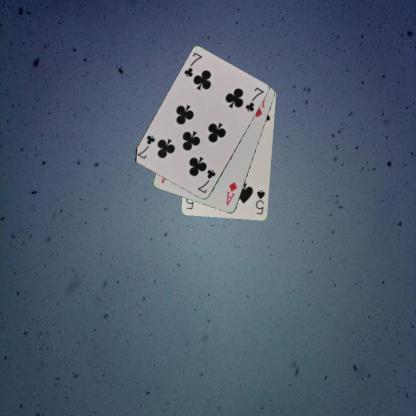5s: (252, 187, 266, 216)
7c: (182, 50, 204, 79), (195, 167, 217, 195)
Ad: (224, 179, 238, 207)
